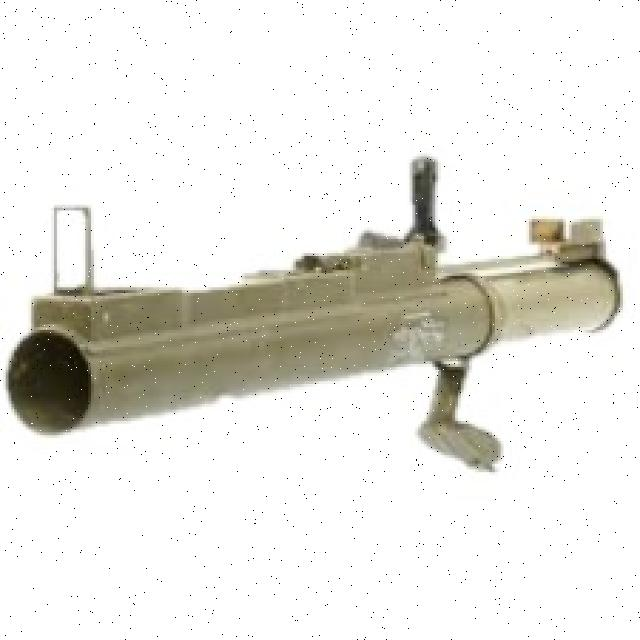bazooka: (1, 136, 632, 473)
